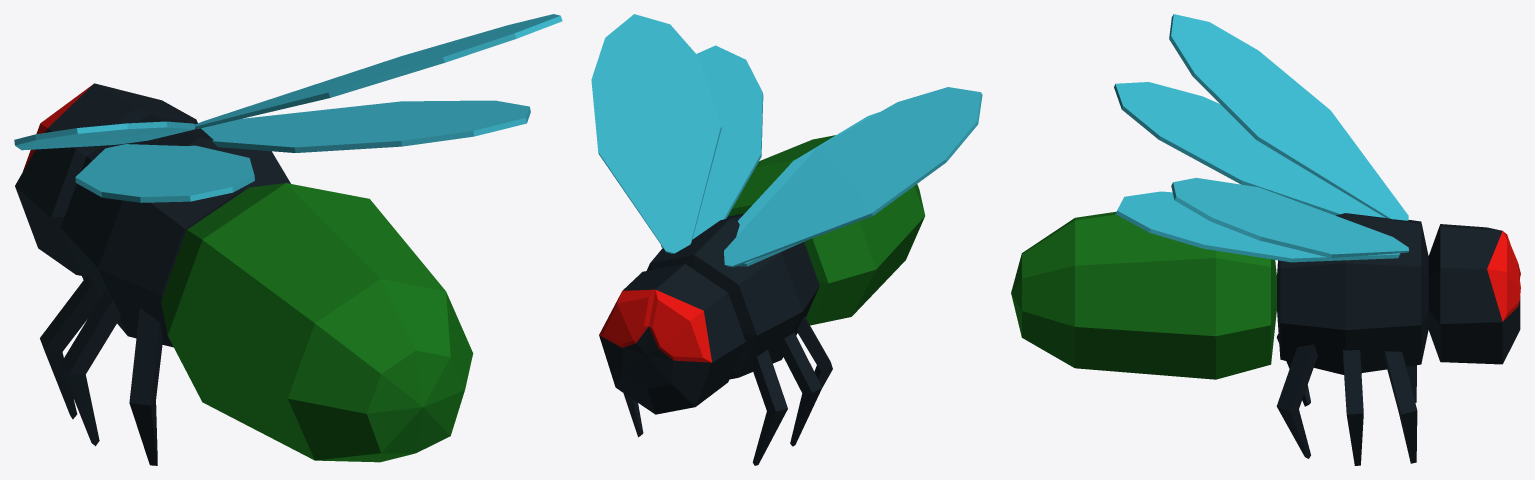
Rendered from moscas.obj.
3 views of the same model, side by side, from view 1: azimuth 30°, elevation 25°; view 2: azimuth 150°, elevation 25°; view 3: azimuth 270°, elevation 25° (orthographic). The views are drawn at different scales.
Parts seen in each view (by area): view 1: Circle.004_Circle.001; view 2: Circle.004_Circle.001; view 3: Circle.004_Circle.001.
Part boxes in pixels (bbox=[...]): Circle.004_Circle.001: bbox=[14, 14, 562, 465]; Circle.004_Circle.001: bbox=[591, 14, 982, 465]; Circle.004_Circle.001: bbox=[1011, 14, 1520, 465].
Size of the model in its own units: 6.31 by 5.15 by 7.15.
